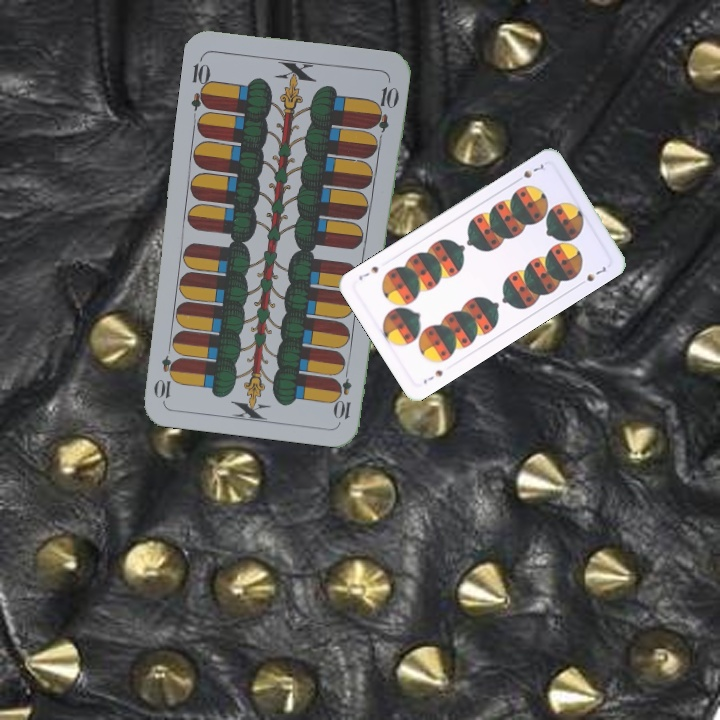E10: (187, 53, 214, 112), (333, 363, 355, 422)
S7: (511, 160, 546, 185), (419, 366, 446, 386)
